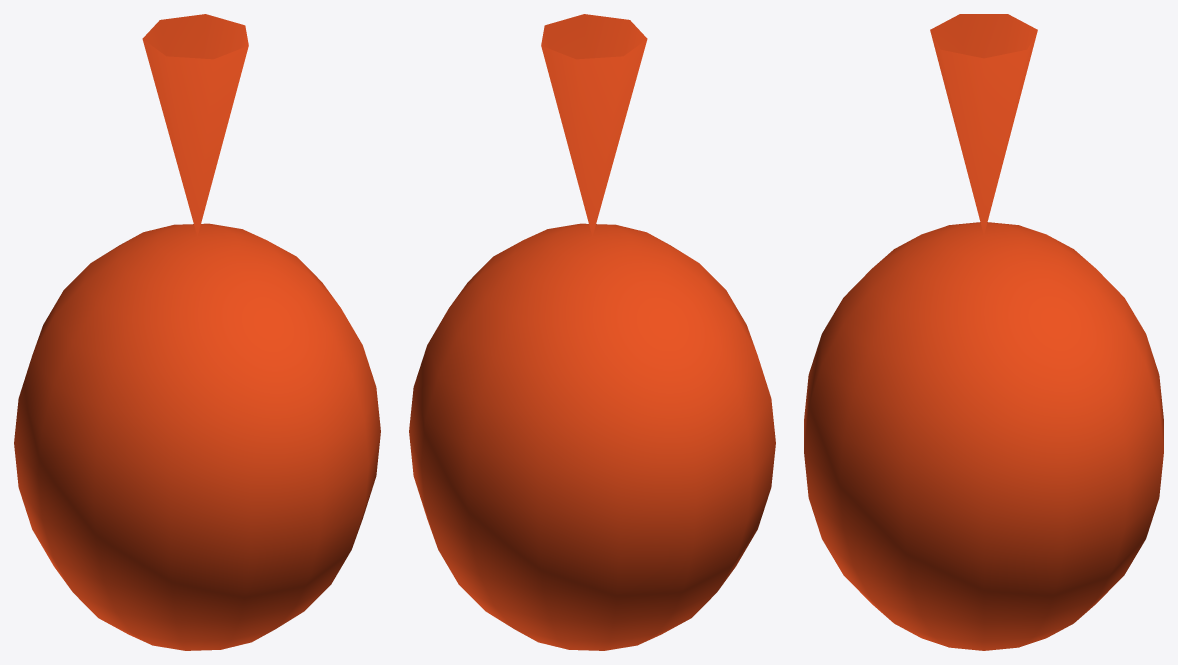
The model's file is Magmaterra_stage3.obj.
The picture shows the model from 3 angles, left to right: view 1: azimuth 30°, elevation 25°; view 2: azimuth 150°, elevation 25°; view 3: azimuth 270°, elevation 25°; orthographic projection.
Size of the model in its own units: 2.6 by 4.68 by 2.53.
